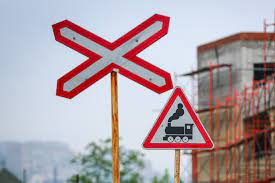1.2: (147, 87, 210, 150)
1.3.1: (49, 12, 173, 92)
